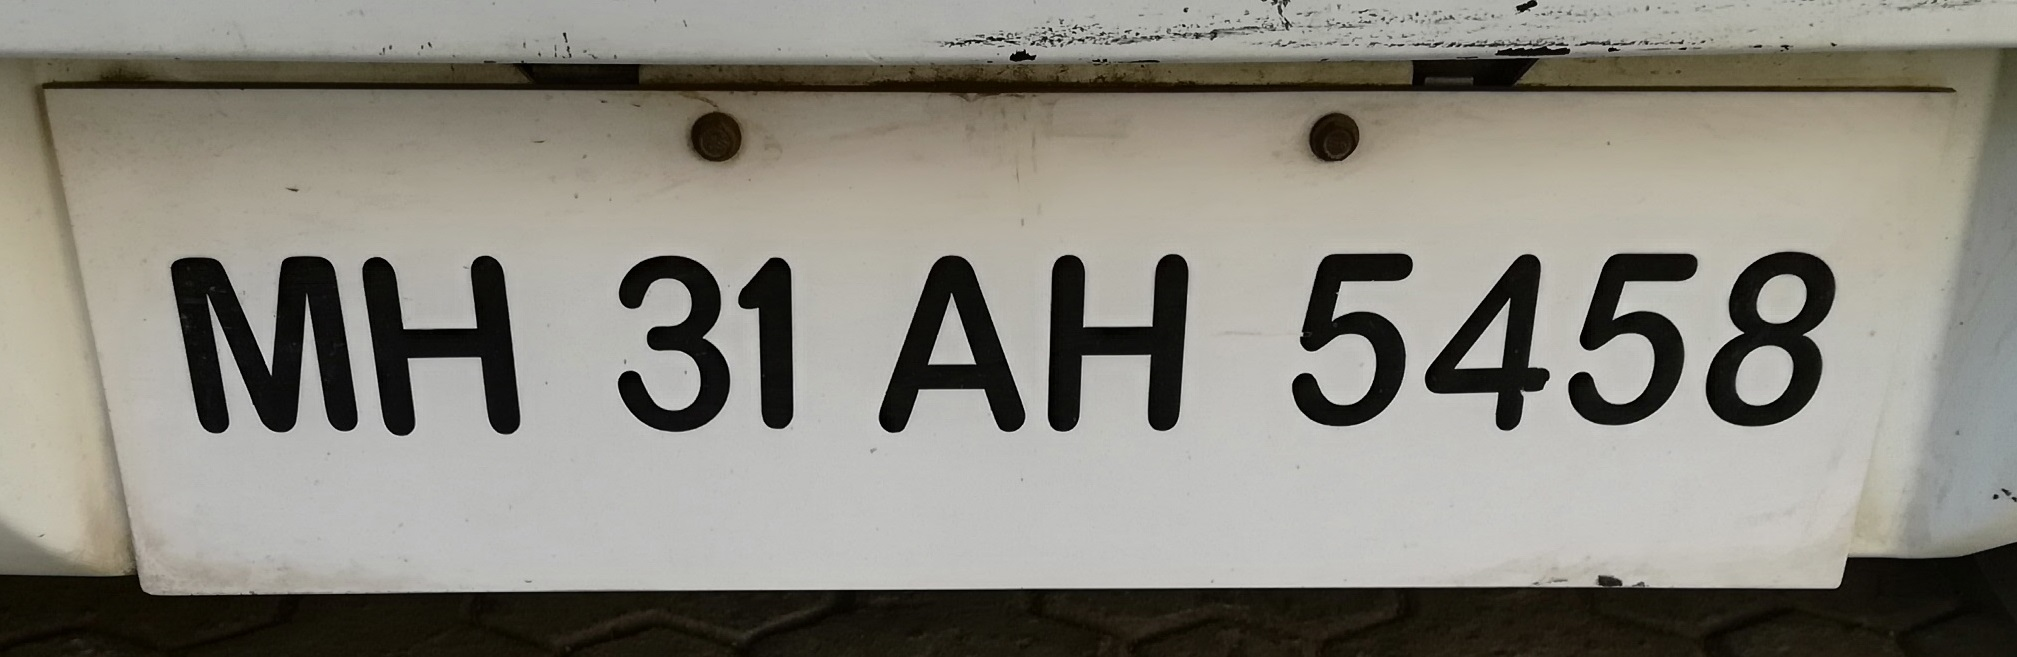numberplate: (34, 71, 1962, 605)
